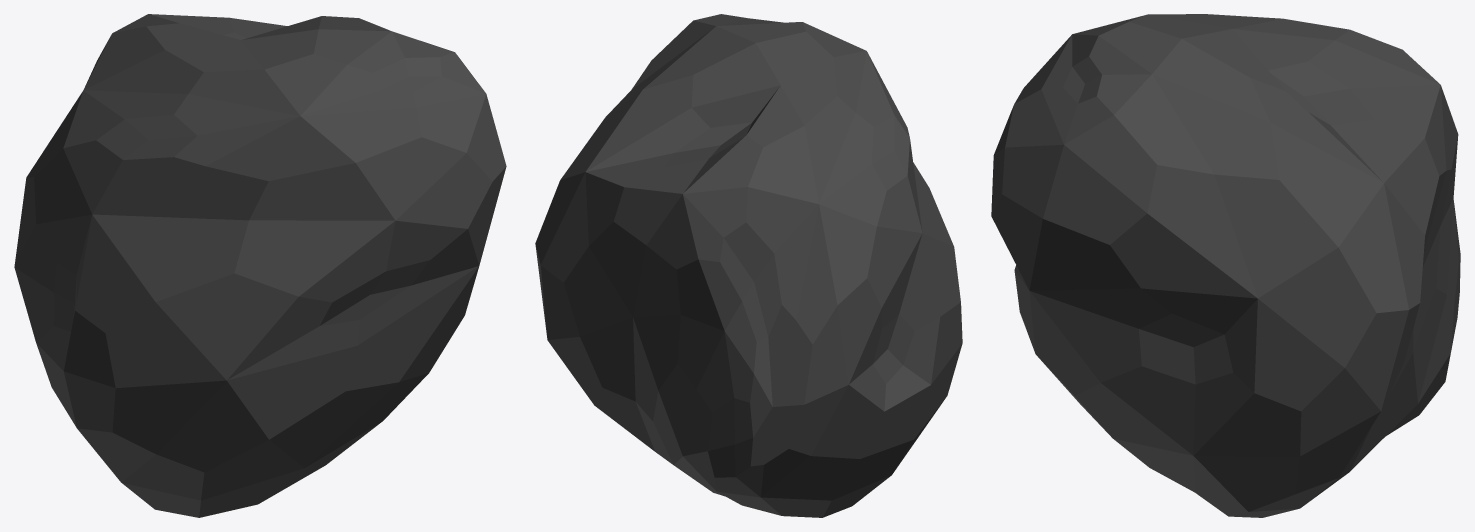
Rendered from Asteroid.008.glb.
The picture shows the model from 3 angles, left to right: view 1: azimuth 30°, elevation 25°; view 2: azimuth 150°, elevation 25°; view 3: azimuth 270°, elevation 25°; orthographic projection. The views are drawn at different scales.
Visible parts, largest first — view 1: Asteroid.008; view 2: Asteroid.008; view 3: Asteroid.008.
Boxes of the visible parts, x1,y1,x2,y2 form: Asteroid.008: (14, 14, 506, 517); Asteroid.008: (535, 14, 962, 517); Asteroid.008: (991, 14, 1460, 517).
Size of the model in its own units: 10.66 by 12.41 by 10.84.
1 material, 1 textured.
